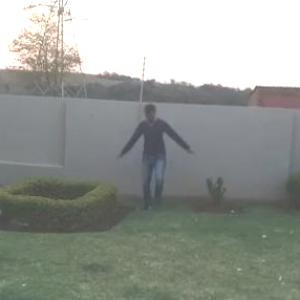land: (114, 104, 196, 218)
